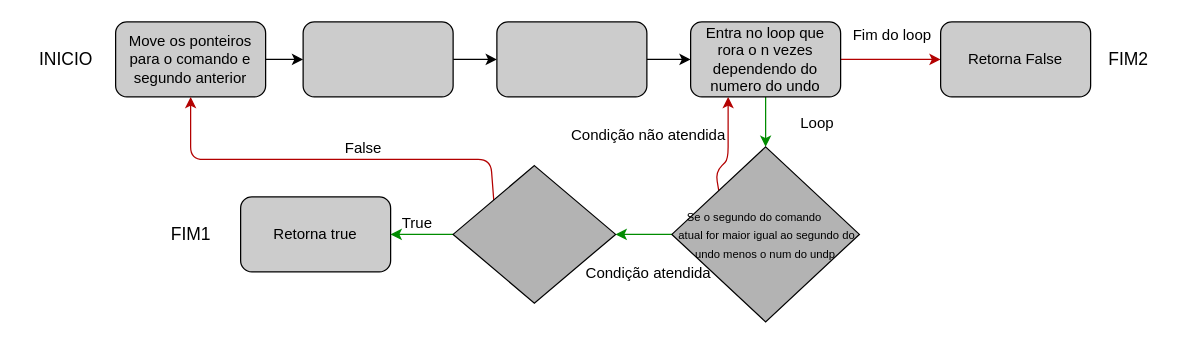
Image size: 1186x344. Some labels were removed from this diagram. The centre of each missing label's shape, as x and y in pixels:
"Ler o segundo do comando atual" goes at (x=377, y=59).
"Move novamente somento o ponteiro do segundo para posição inical" goes at (x=571, y=59).
"Verificar se é o ultimo comando, da direita para esquerda" goes at (x=534, y=233).
